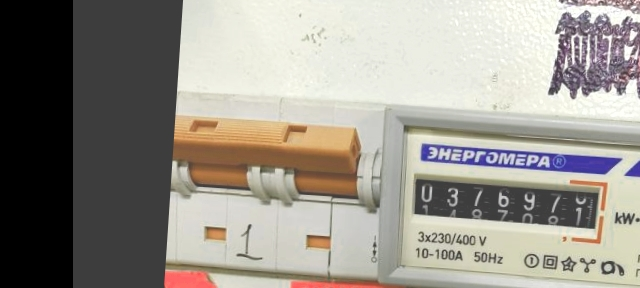0: (418, 181, 435, 203)
1: (573, 205, 585, 227)
3: (445, 184, 460, 208)
6: (497, 186, 511, 208)
7: (547, 190, 562, 214), (471, 183, 485, 208)
9: (521, 188, 536, 211)
screen: (404, 166, 611, 247)
